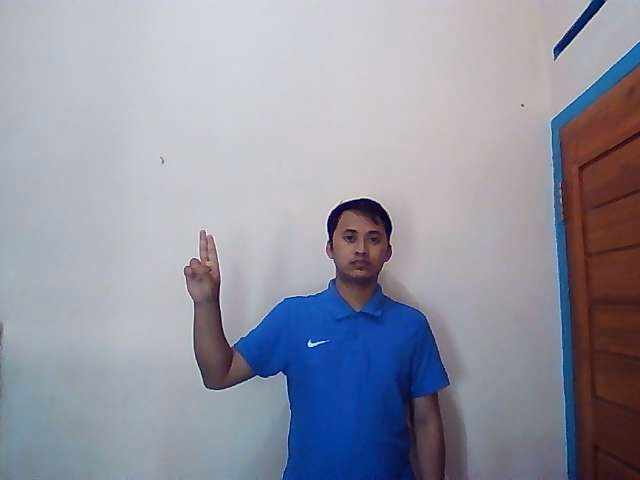U: (183, 229, 221, 301)
